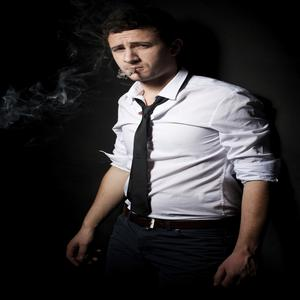cigarette: (128, 65, 137, 86)
